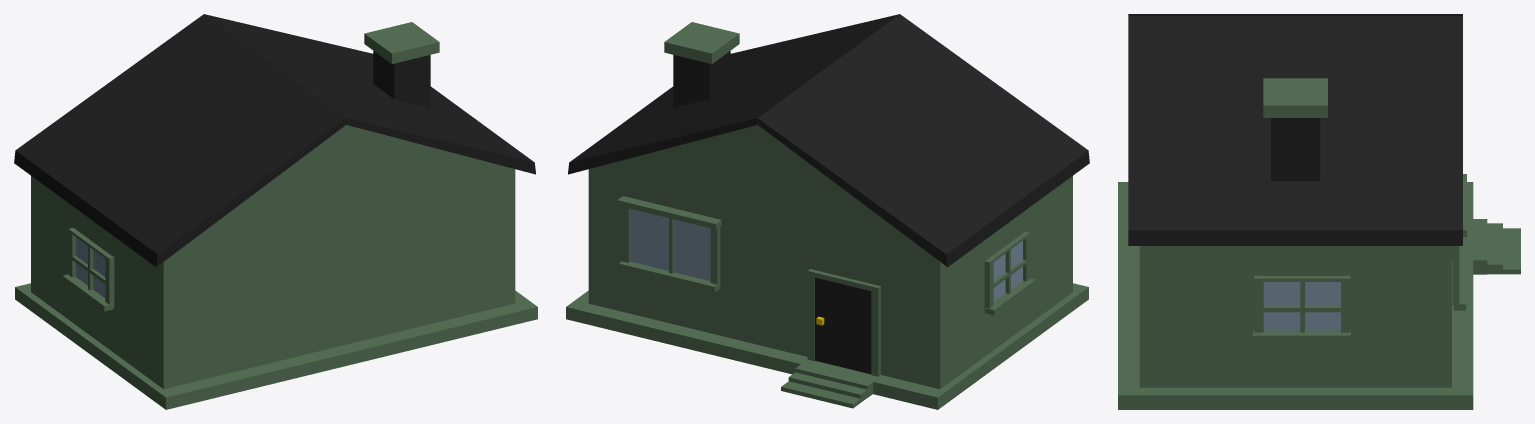
File: Basic Long House Black Roof.fbx
3 renders of one model, left to right at view 1: azimuth 30°, elevation 25°; view 2: azimuth 150°, elevation 25°; view 3: azimuth 270°, elevation 25°, orthographic. The views are drawn at different scales.
Parts seen in each view (by area): view 1: pasted__pasted__pasted__pasted__pCube1 (×2), pasted__pasted__pasted__pCube1, pasted__pasted__pCube1 (×2), pasted__pCube1, pasted__pCube2, pasted__pasted__pCube2, pasted__pasted__pasted__pasted__pasted__pasted__pCube1 (×2), pasted__pasted__pasted__pasted__pasted__pCube1; view 2: pasted__pasted__pasted__pCube1 (×3), pasted__pasted__pCube1 (×5), pasted__pCube1, pasted__pasted__pasted__pasted__pasted__pCube1 (×2), pasted__pCube2, pasted__pasted__pasted__pasted__pasted__pasted__pCube1 (×3), pasted__pasted__pCube2, pasted__pasted__pasted__pasted__pasted__pasted__pasted__pCub (×2), pasted__pasted__pasted__pasted__pCube1; view 3: pasted__pasted__pCube1 (×2), pasted__pasted__pasted__pCube1 (×2), pasted__pCube1, pasted__pasted__pasted__pasted__pCube1 (×3), pasted__pCube2, pasted__pasted__pCube2, pasted__pasted__pasted__pasted__pasted__pasted__pCube1 (×2), pasted__pasted__pCube3, pasted__pasted__pasted__pasted__pasted__pasted__pasted__pCub.
Part boxes in pixels (x1,y1,x2,y2): pasted__pasted__pasted__pasted__pCube1 (×2): (68,124,514,388); pasted__pasted__pasted__pCube1: (14,14,346,267); pasted__pasted__pCube1 (×2): (31,14,535,389); pasted__pCube1: (15,283,537,409); pasted__pCube2: (373,51,430,107); pasted__pasted__pCube2: (364,22,439,63); pasted__pasted__pasted__pasted__pasted__pasted__pCube1 (×2): (62,254,114,311); pasted__pasted__pasted__pasted__pasted__pCube1: (76,237,105,297); pasted__pasted__pasted__pCube1 (×3): (588,14,1089,388); pasted__pasted__pCube1 (×5): (568,14,1072,408); pasted__pCube1: (566,283,1088,409); pasted__pasted__pasted__pasted__pasted__pCube1 (×2): (630,209,1022,301); pasted__pCube2: (673,51,730,107); pasted__pasted__pasted__pasted__pasted__pasted__pCube1 (×3): (619,226,1035,315); pasted__pasted__pCube2: (664,22,739,63); pasted__pasted__pasted__pasted__pasted__pasted__pasted__pCub (×2): (617,196,721,262); pasted__pasted__pasted__pasted__pCube1: (984,234,1026,311); pasted__pasted__pCube1 (×2): (1128,16,1520,274); pasted__pasted__pasted__pCube1 (×2): (1128,14,1462,387); pasted__pCube1: (1118,182,1473,409); pasted__pasted__pasted__pasted__pCube1 (×3): (1254,275,1350,332); pasted__pCube2: (1271,118,1320,180); pasted__pasted__pCube2: (1263,78,1327,117); pasted__pasted__pasted__pasted__pasted__pasted__pCube1 (×2): (1253,249,1466,341); pasted__pasted__pCube3: (1263,306,1341,312); pasted__pasted__pasted__pasted__pasted__pasted__pasted__pCub: (1452,246,1459,305).
Size of the model in its own units: 10.44 by 6.4 by 8.15.
